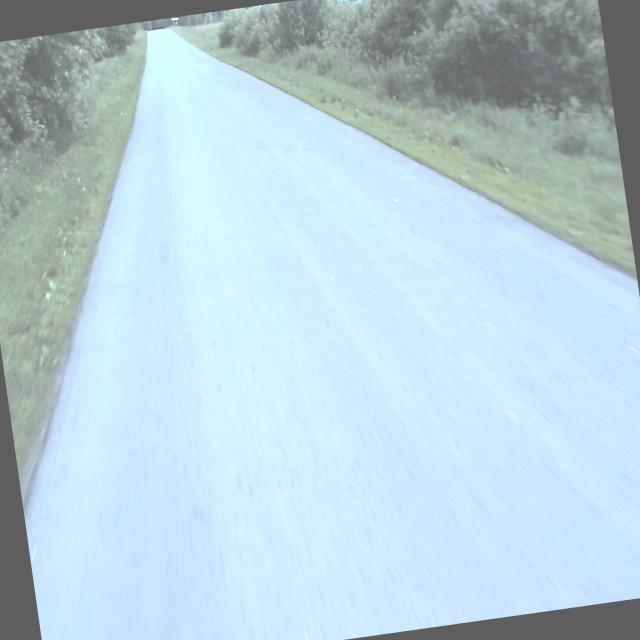road: (23, 28, 640, 640)
